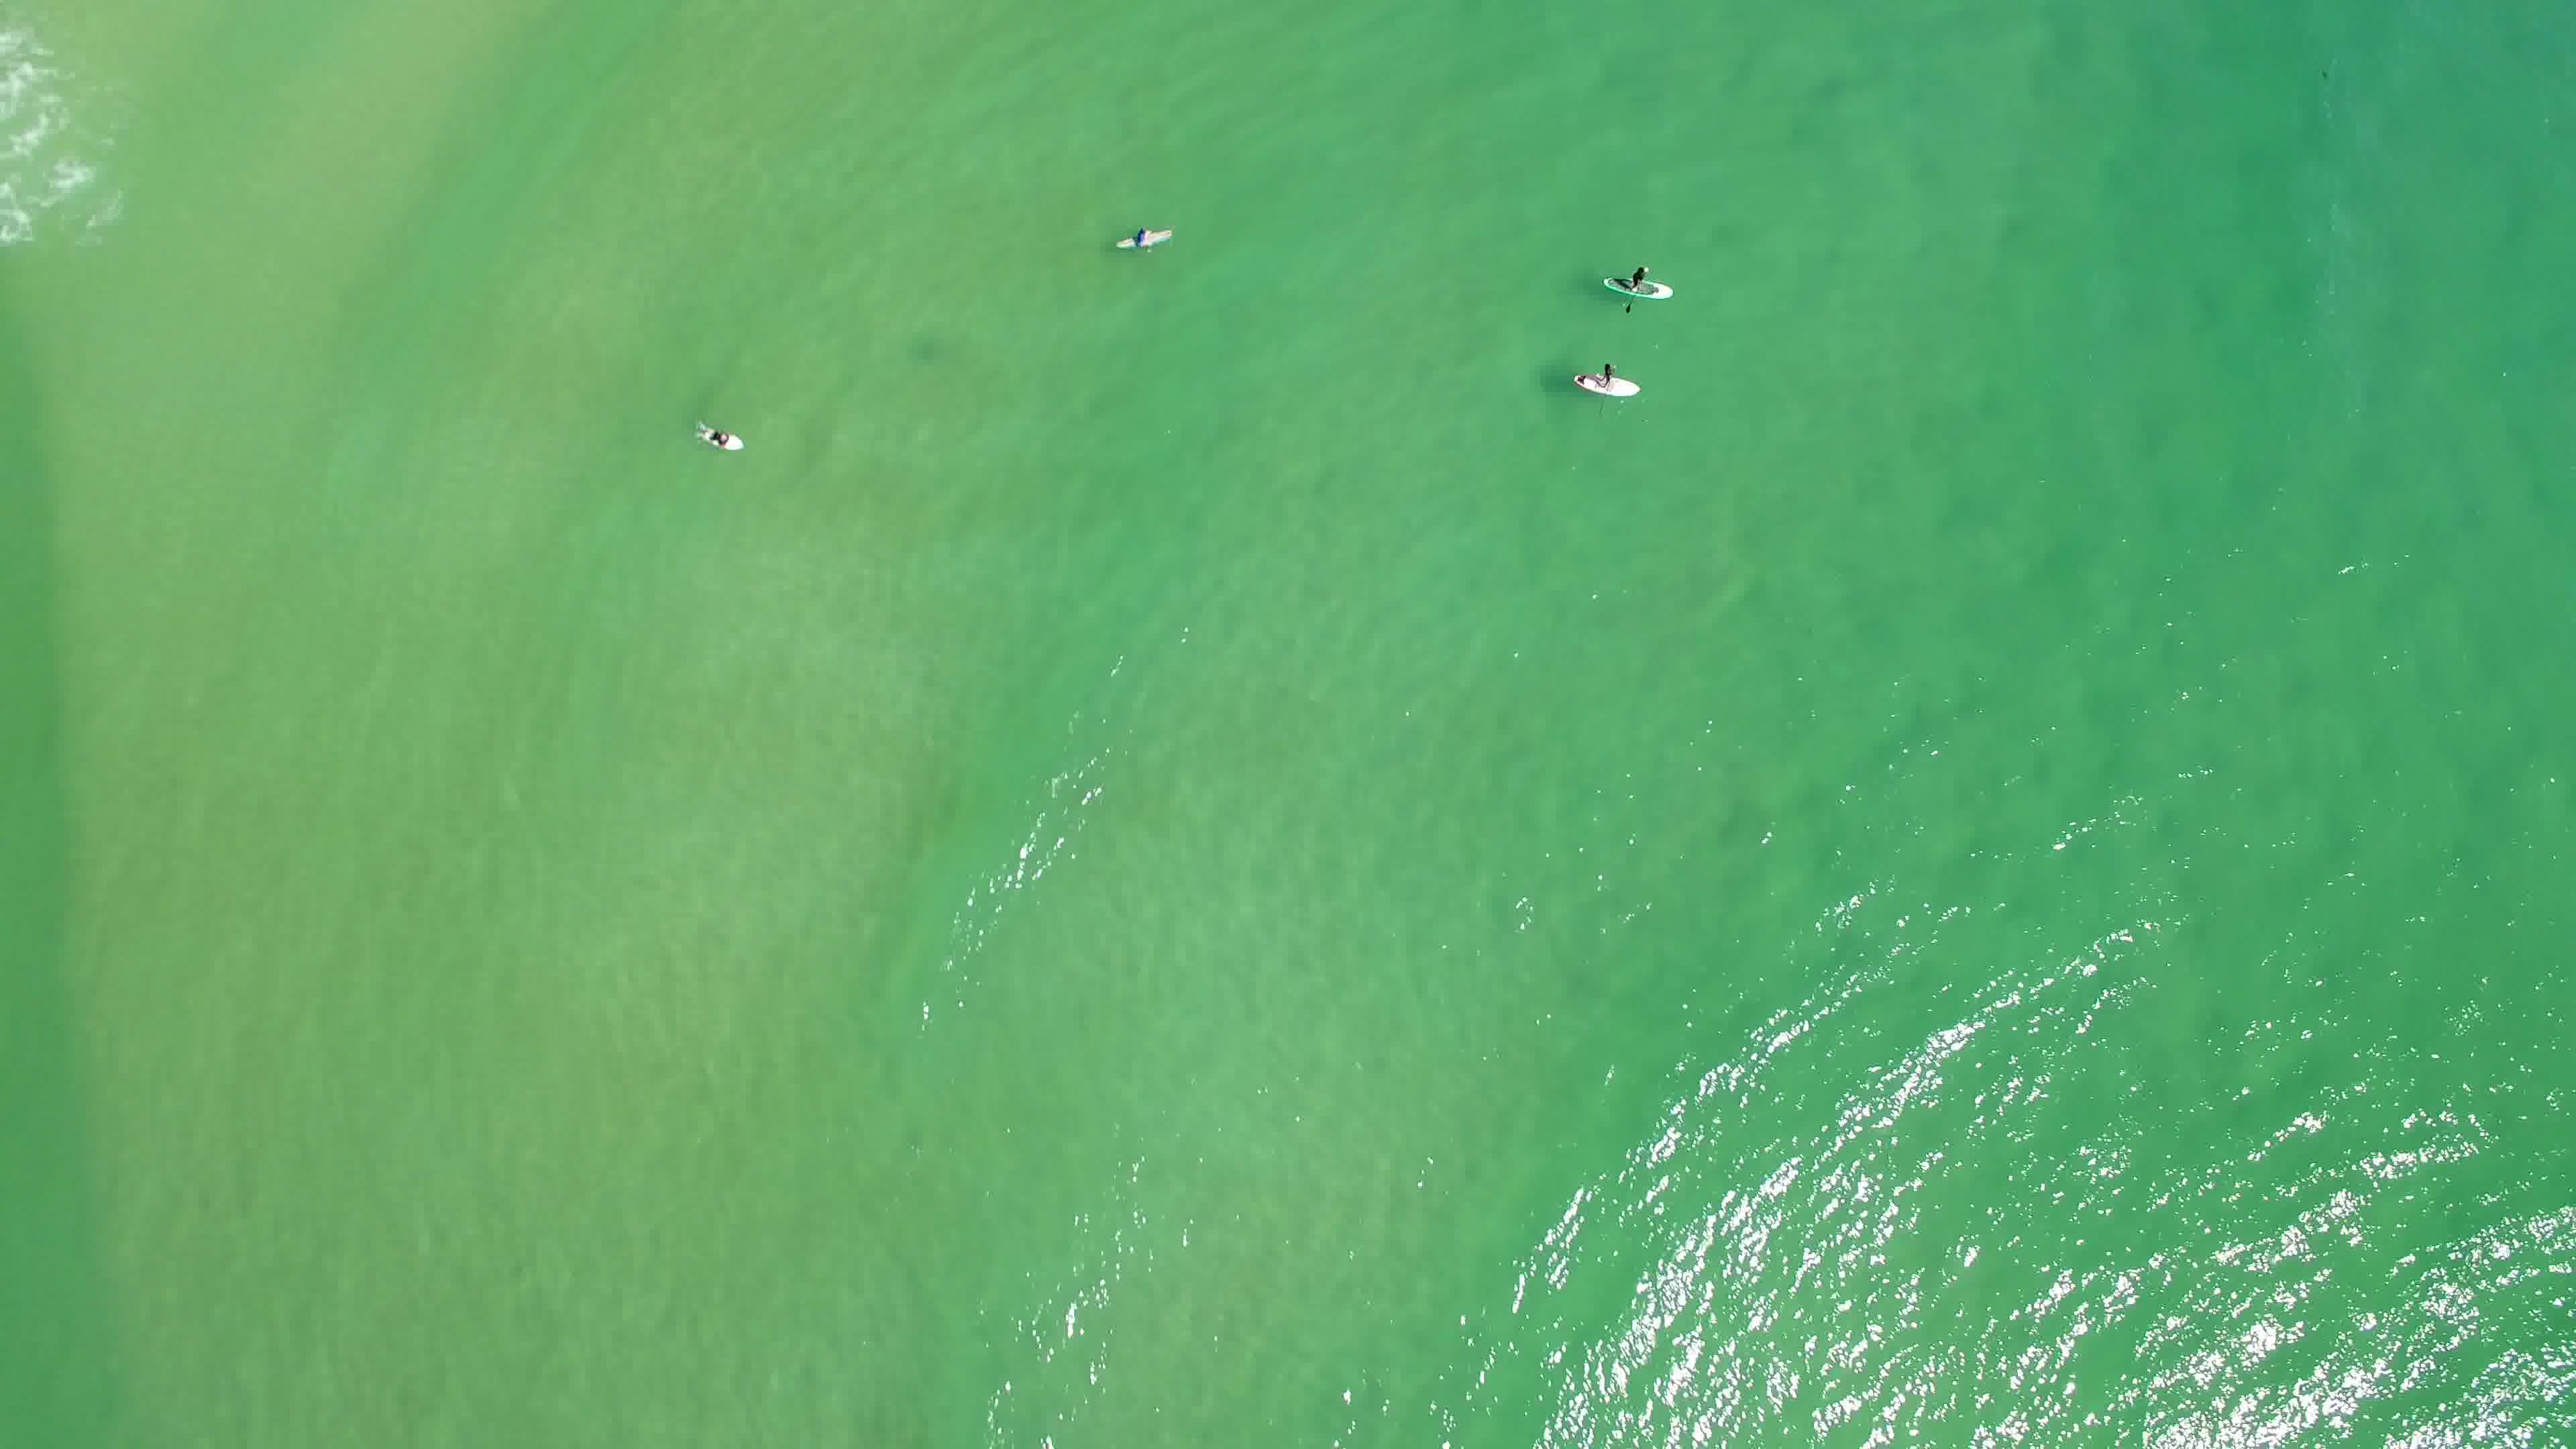surfer: (1594, 262, 1677, 322), (1568, 359, 1651, 407), (1111, 216, 1180, 258), (694, 423, 752, 456)
